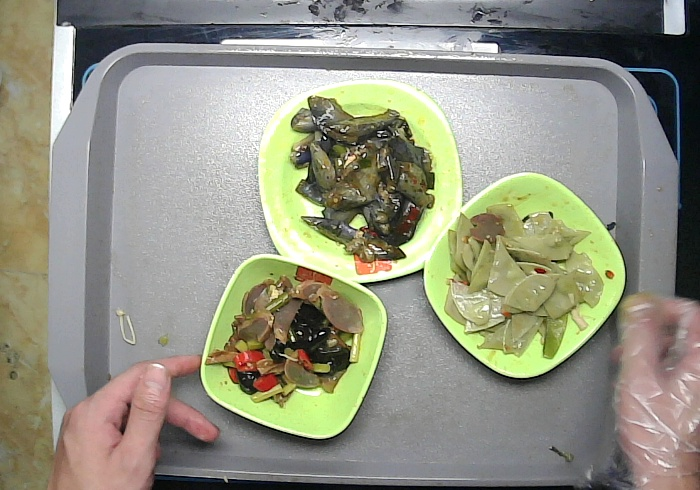SHKJ-Lv_Se_Cai_Die: (419, 169, 629, 383)
SHKJ-Lv_Se_Si_Fang_Cai_Die: (256, 76, 466, 286)
SHKJ-Lv_Se_Xiao_Fang_Die: (196, 251, 391, 445)
